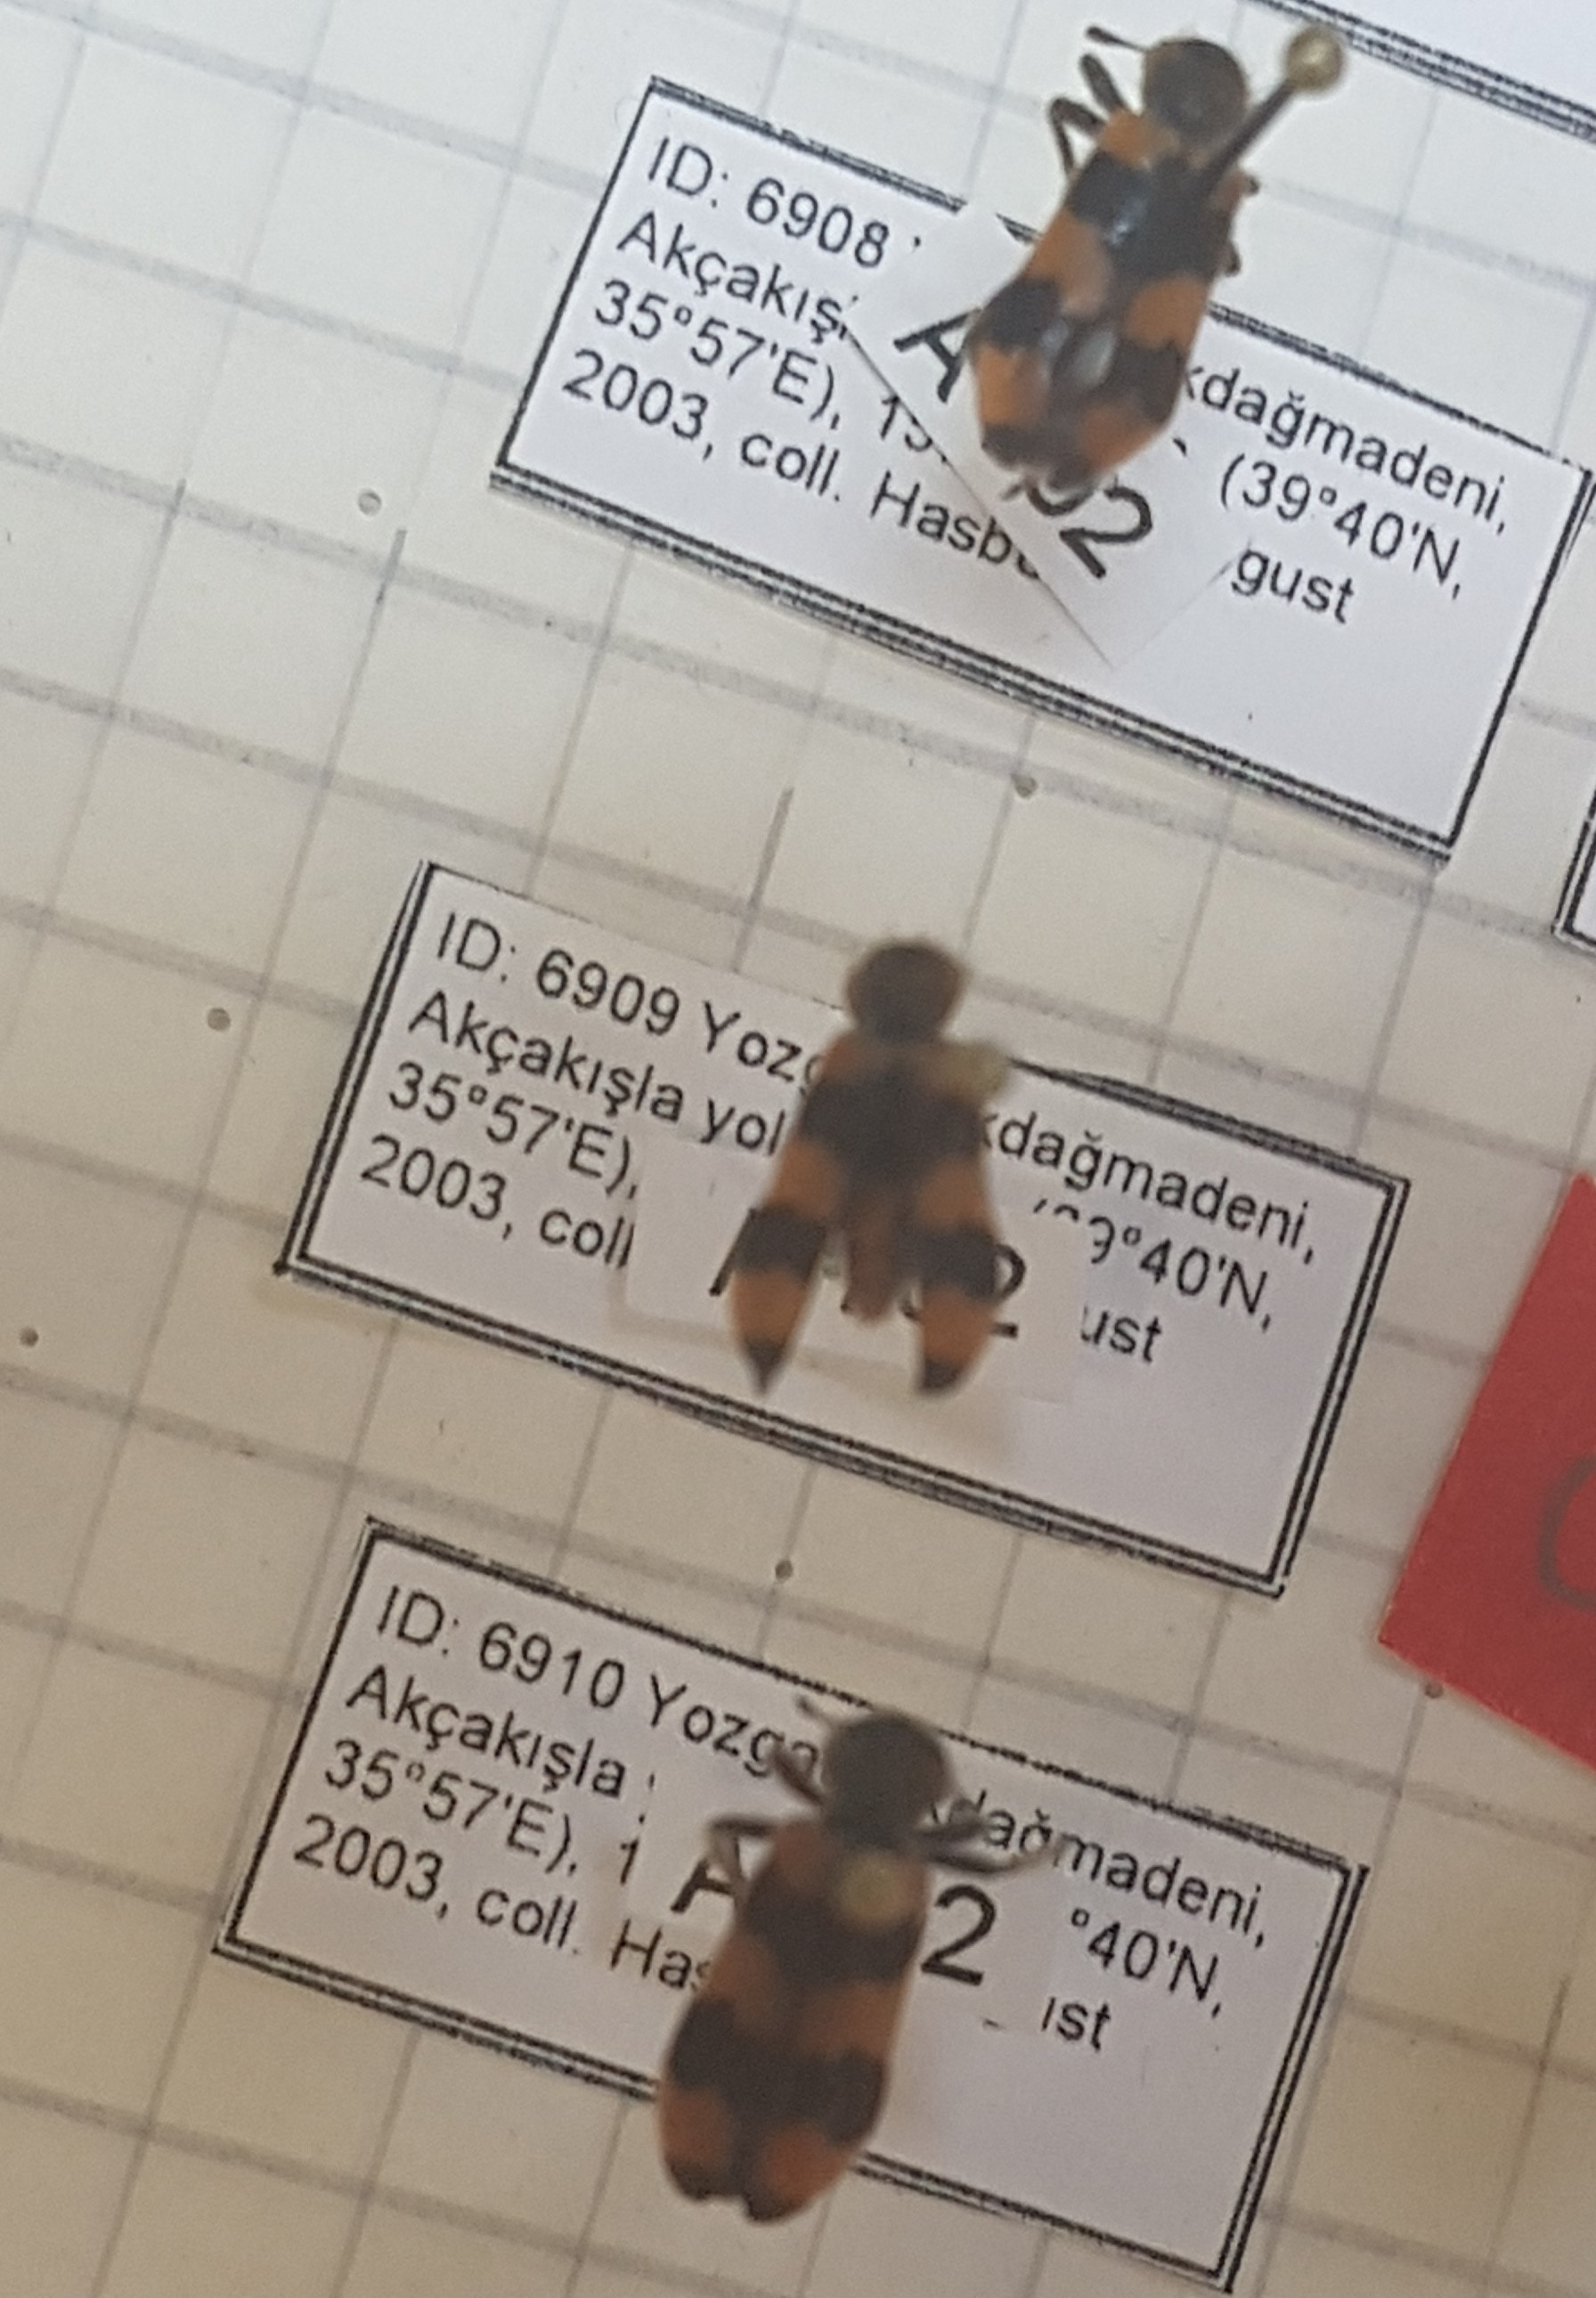trichodes_apiarius: (608, 1668, 1074, 2226), (690, 922, 1051, 1423), (943, 3, 1278, 533)
